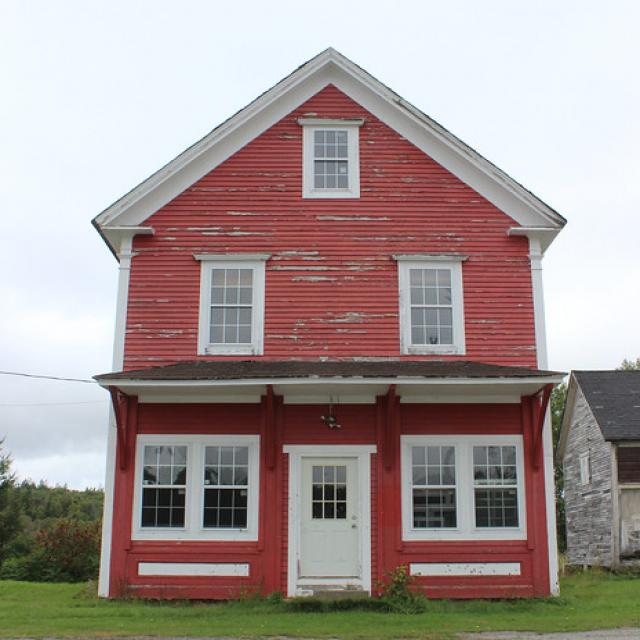Normal_building: (90, 46, 571, 612)
